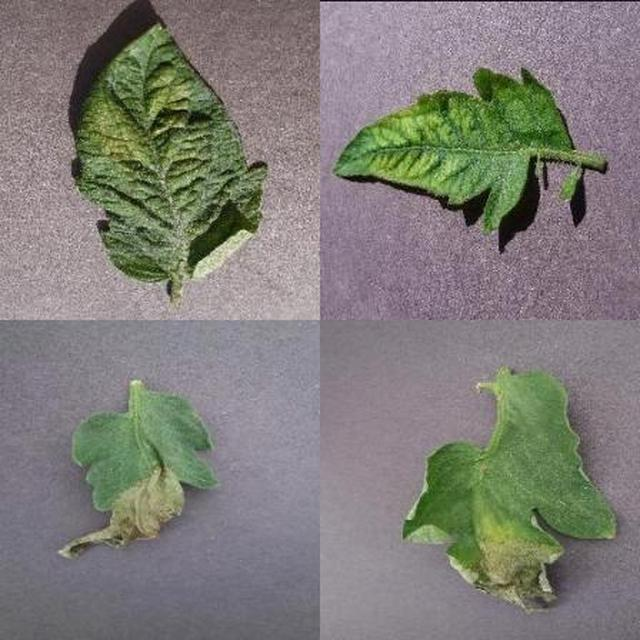Spider Mites Leaf: (199, 213, 640, 640)
